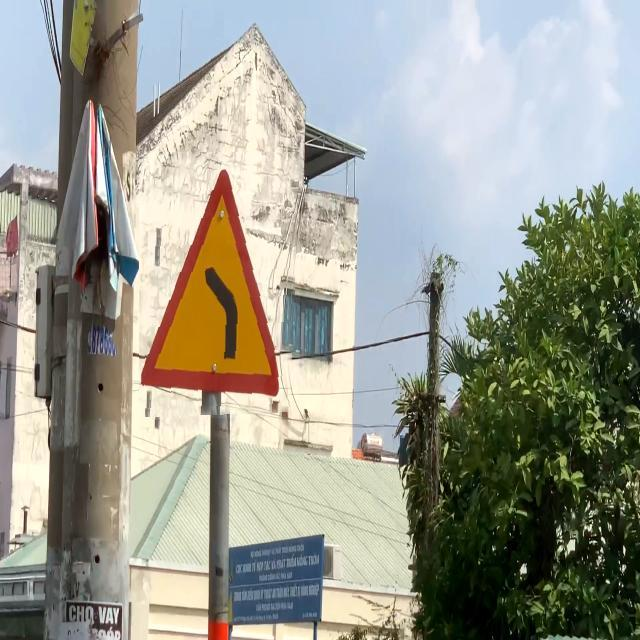W-201a: (139, 152, 300, 418)
